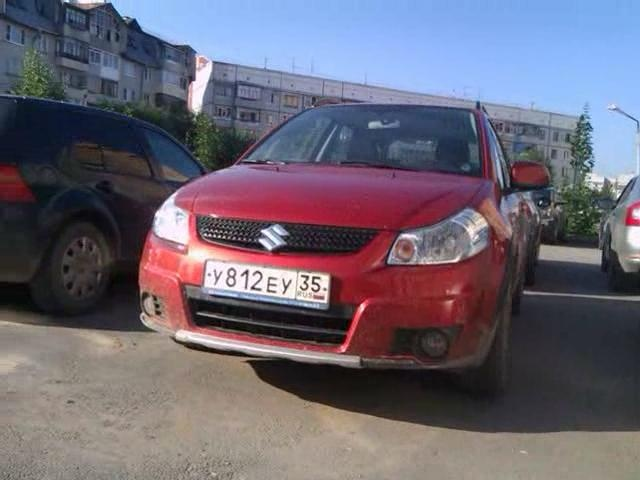car license plate: (204, 259, 330, 317)
